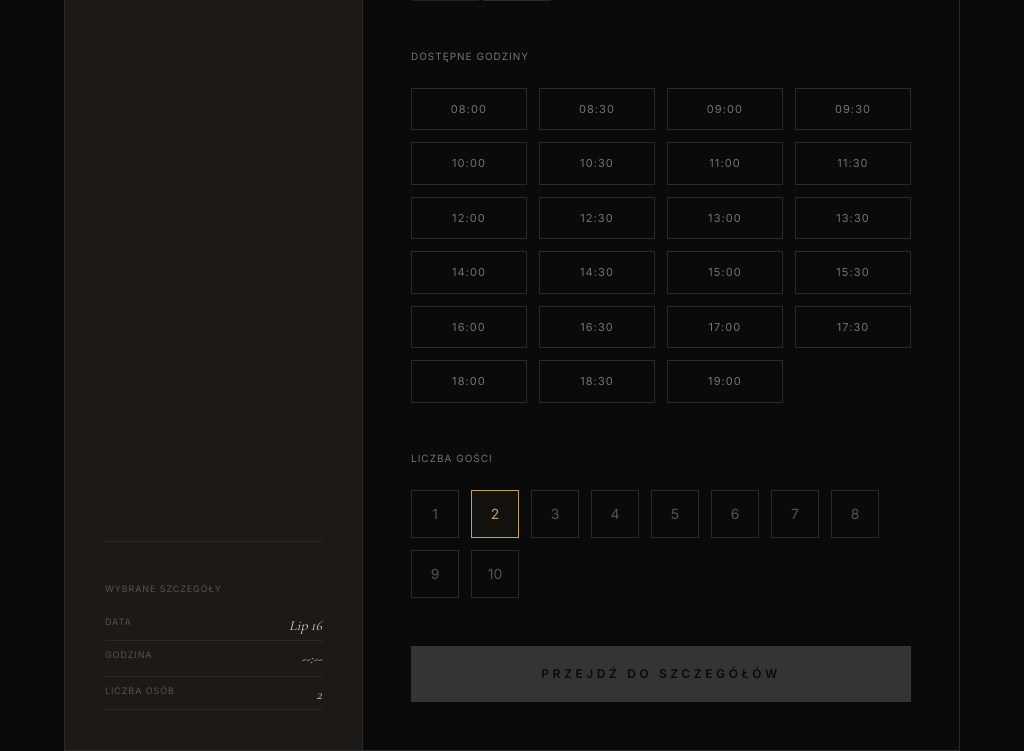
Scenario: ReservationForm Booking Flow › enables proceed button when a time slot is selected and transitions to Step 2
(page scrolled)
Click the button "19:00": {"x": 725, "y": 381} [667,360,783,402]
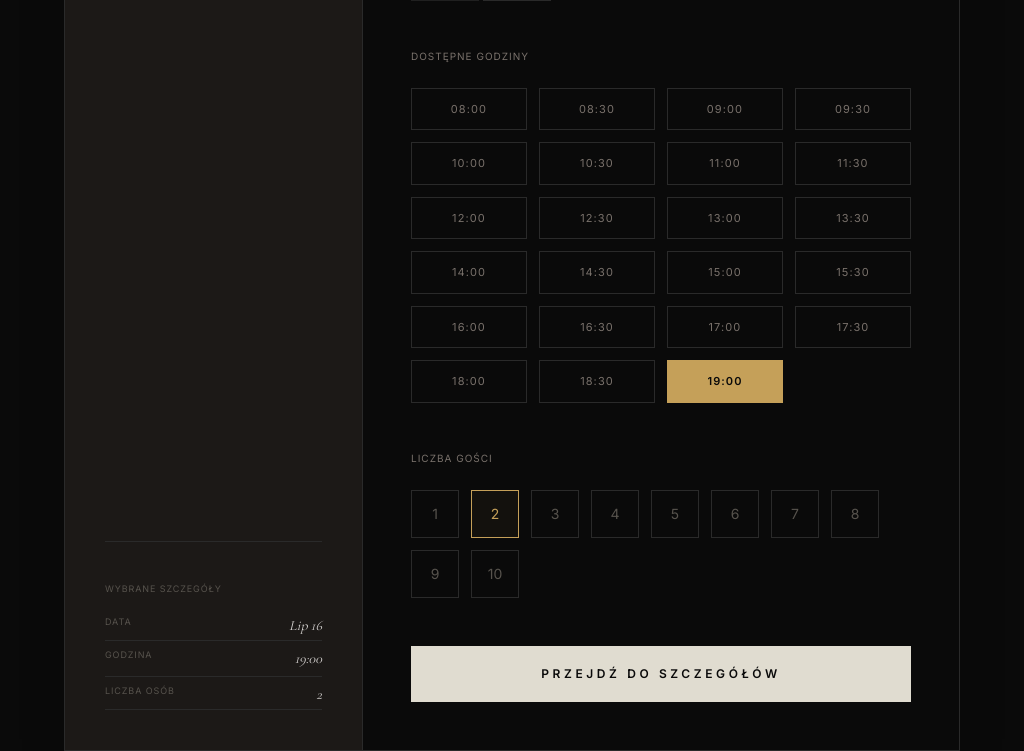
Expected: the button "Przejdź do Szczegółów" is enabled
Click the button "Przejdź do Szczegółów": {"x": 661, "y": 674} [411,646,911,702]
(page scrolled)
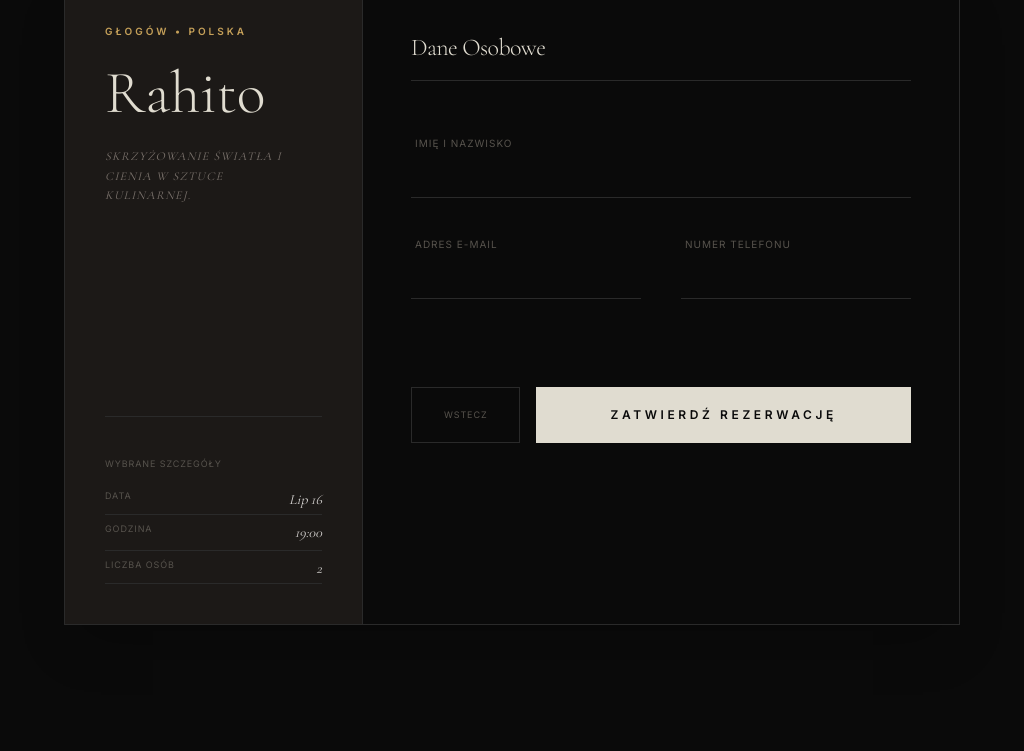
Expected: the heading "Dane Osobowe" is shown, [411,32,545,64]
